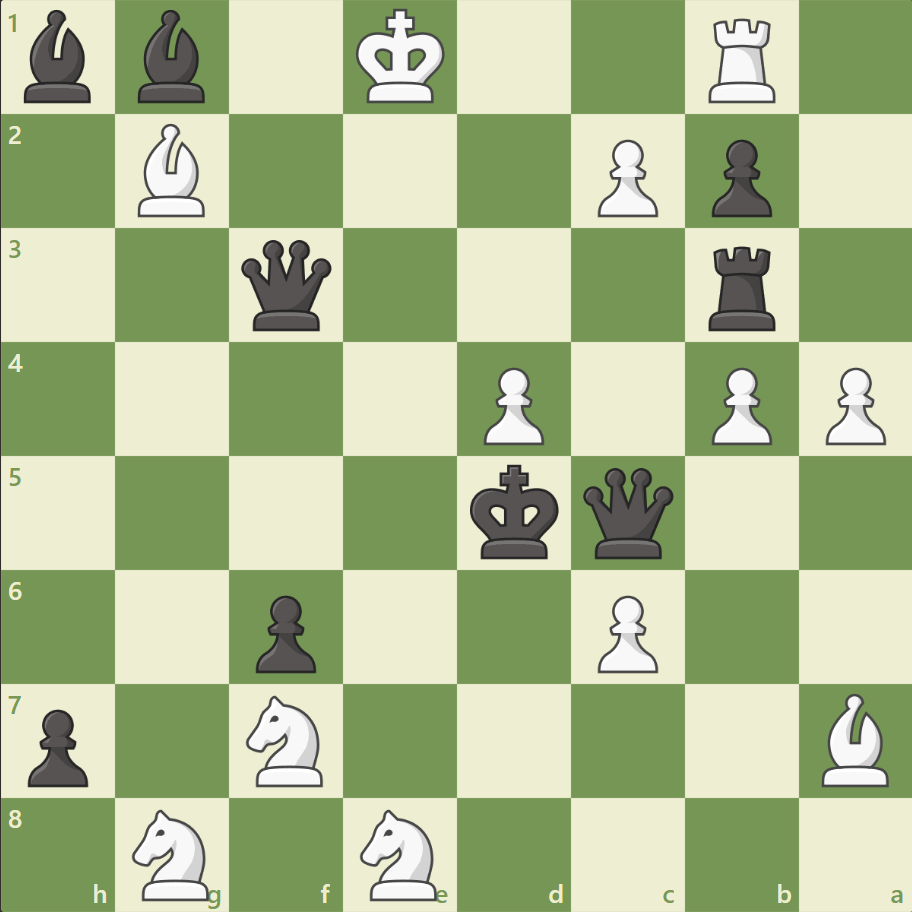B: (812, 687, 896, 790), (131, 120, 215, 222)
K: (351, 4, 451, 112)
N: (351, 802, 449, 904), (124, 802, 222, 904), (238, 688, 335, 791)
P: (701, 359, 776, 450), (474, 359, 549, 450), (588, 586, 662, 677), (815, 359, 889, 450), (588, 132, 662, 223)
R: (700, 12, 783, 109)
b: (131, 6, 215, 109), (17, 6, 101, 109)
k: (465, 458, 565, 566)
p: (20, 700, 95, 791), (247, 586, 322, 677), (701, 132, 776, 223)
q: (578, 463, 677, 562), (237, 236, 336, 335)
r: (700, 239, 783, 336)
